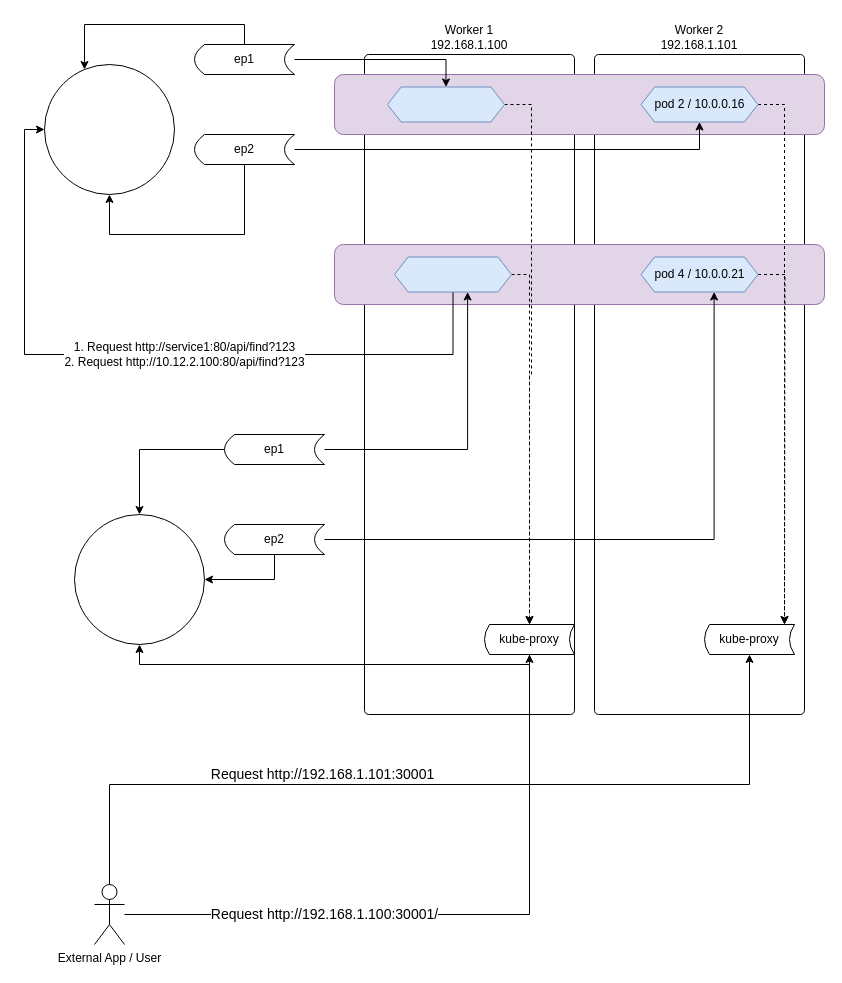
The diagram is 842 pixels wide and 983 high, and some of its shapes have lost their labels. The shapes that lost their labels are listed below. From the top down, each one's box as (x1, y1, x2, y2) in pixels, then its label:
(386, 86, 504, 122): pod 1 / 10.0.0.15
(334, 74, 824, 134): Deploy 1 Backend API
(44, 64, 174, 194): Service ClusterIp:10.12.2.100 DNS: service1
(394, 256, 512, 292): pod 3 / 10.0.0.20
(334, 244, 824, 304): Deploy 2 Front End App
(74, 514, 204, 644): Service ClusterIp:10.12.2.101 DNS: service2 NodePort: 30001
